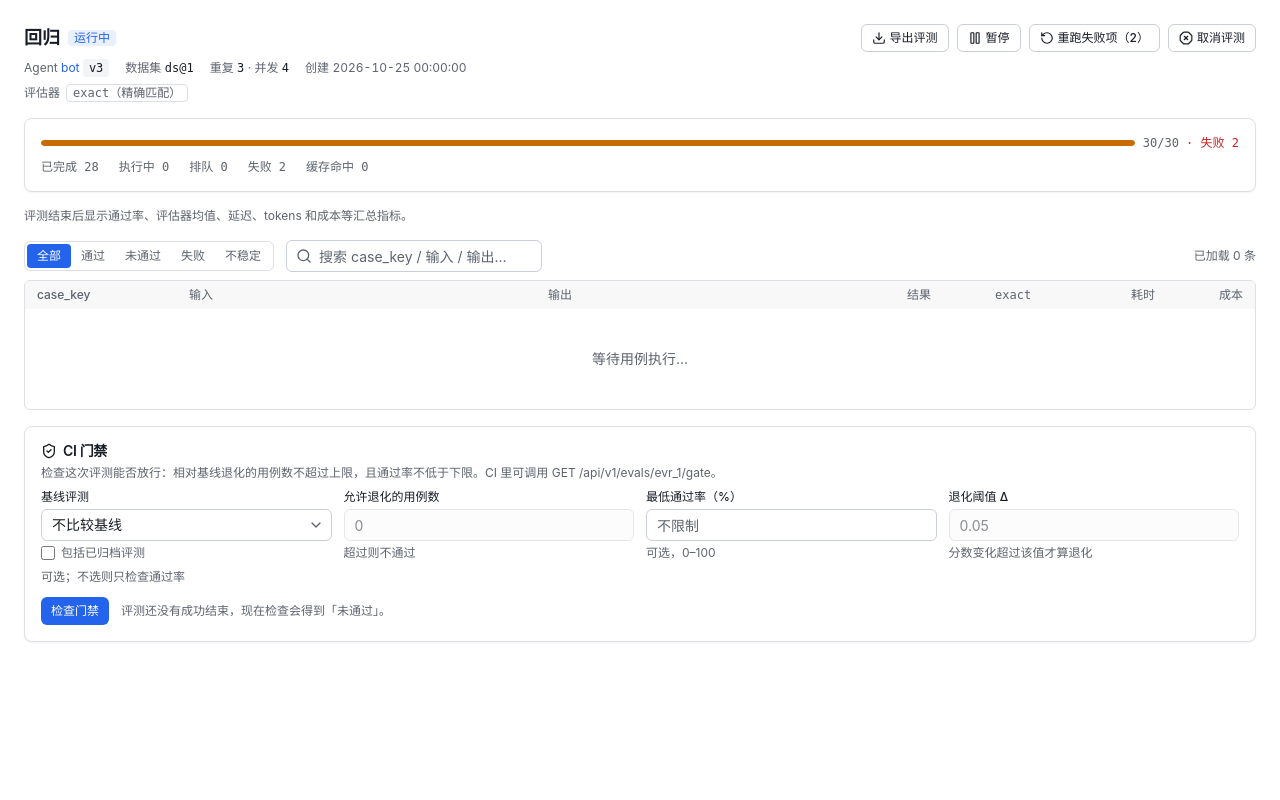
Test: EvalReportPage：导出 › 运行中的评测允许导出，并说明最终结果需结束后导出
The width and height of the screenshot is (1280, 800).
Click the button with test id "export-eval". click: point(904, 38)
box: [860,24,948,52]
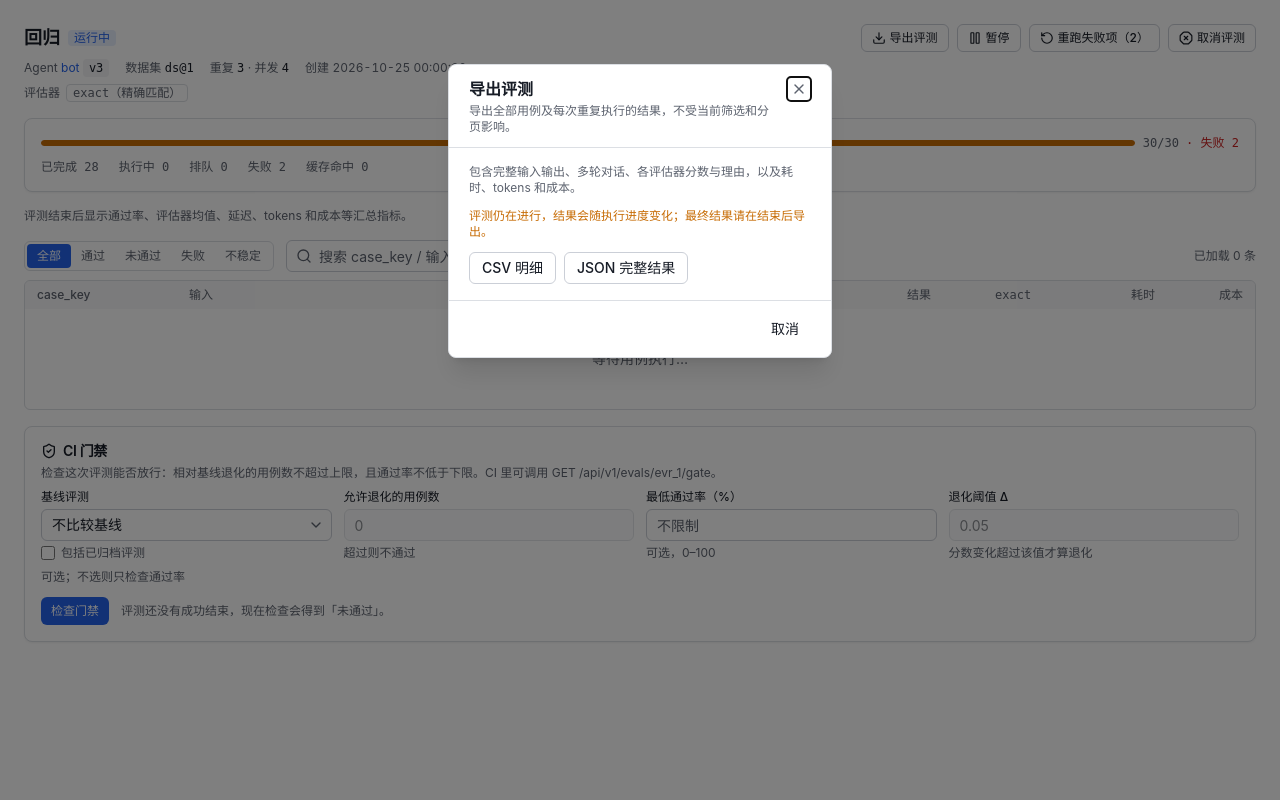
Now the dialog shows "最终结果请在结束后导出", box [469,208,805,239]
Now the button with test id "export-eval-json" is enabled, box [564,252,688,284]
